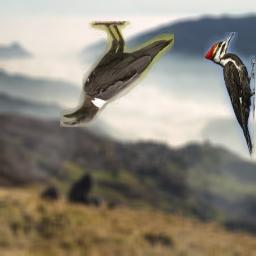Crow: (60, 21, 174, 127)
Woodpecker: (204, 32, 255, 162)
